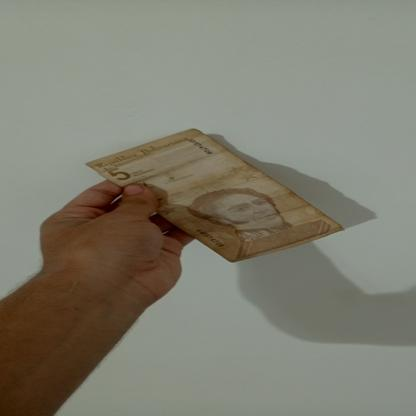five-front-vef: (85, 128, 345, 262)
